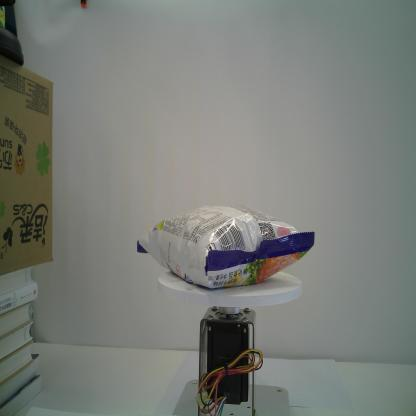Puffed Food: (136, 205, 315, 289)
